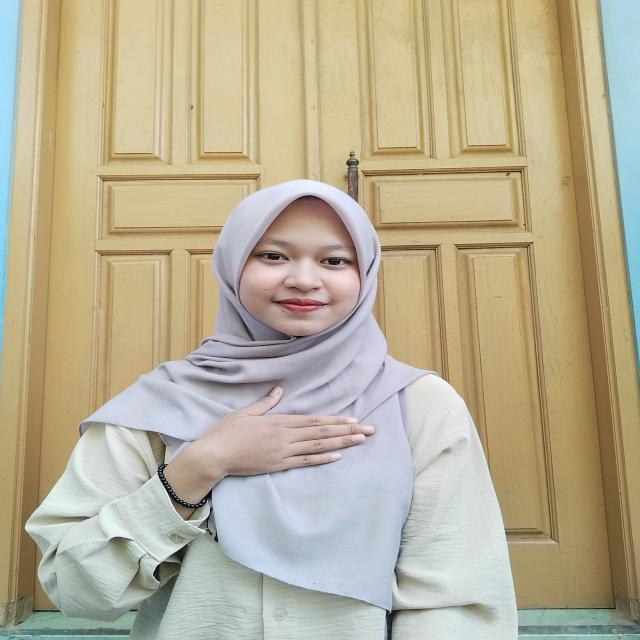tolong: (134, 389, 386, 511)
